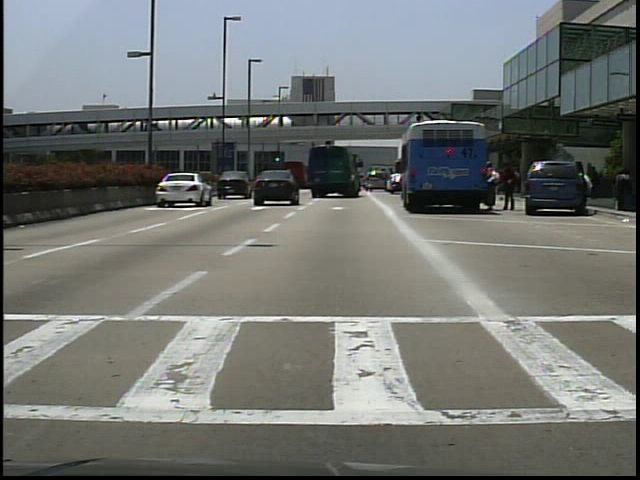person: (485, 159, 502, 212), (501, 161, 518, 211), (581, 167, 596, 206)
